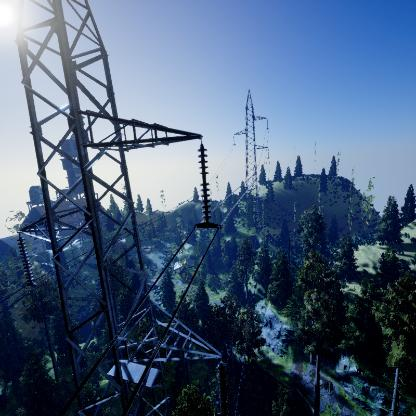insulator: (195, 143, 214, 223), (16, 237, 35, 287)
